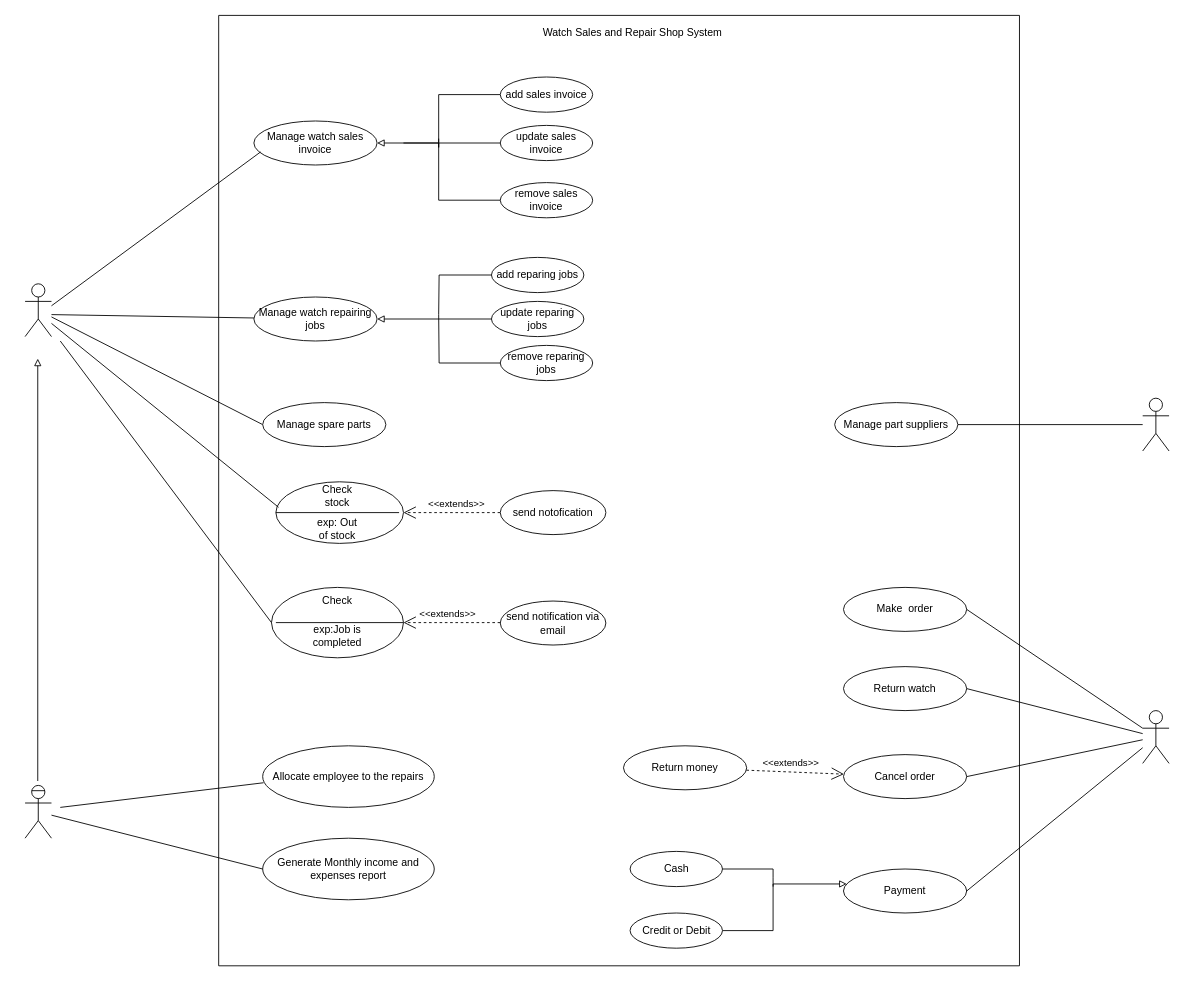
Some shapes in this 1194 by 981 pixel diagram are drawn without their labels. Here are the shapes that lost their labels. From the top down, the centre of each, then its label:
(37,310): Employee
(1155,424): Suppliers
(1155,736): Customer
(37,811): Manager
